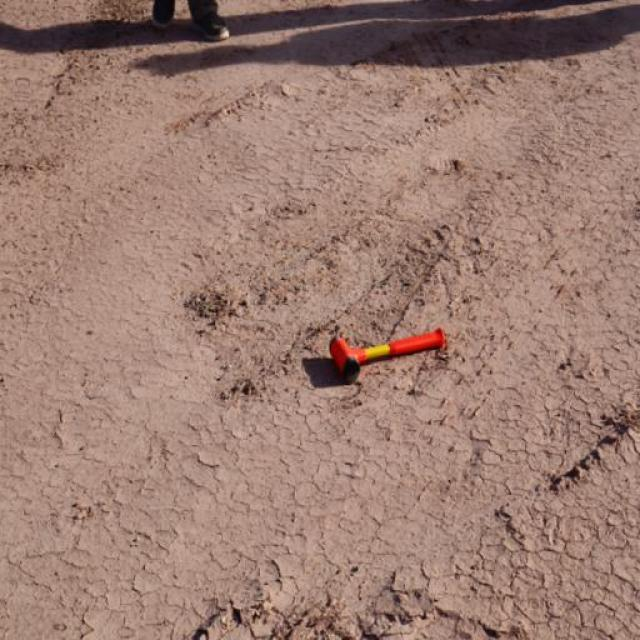mallet: (328, 325, 447, 384)
